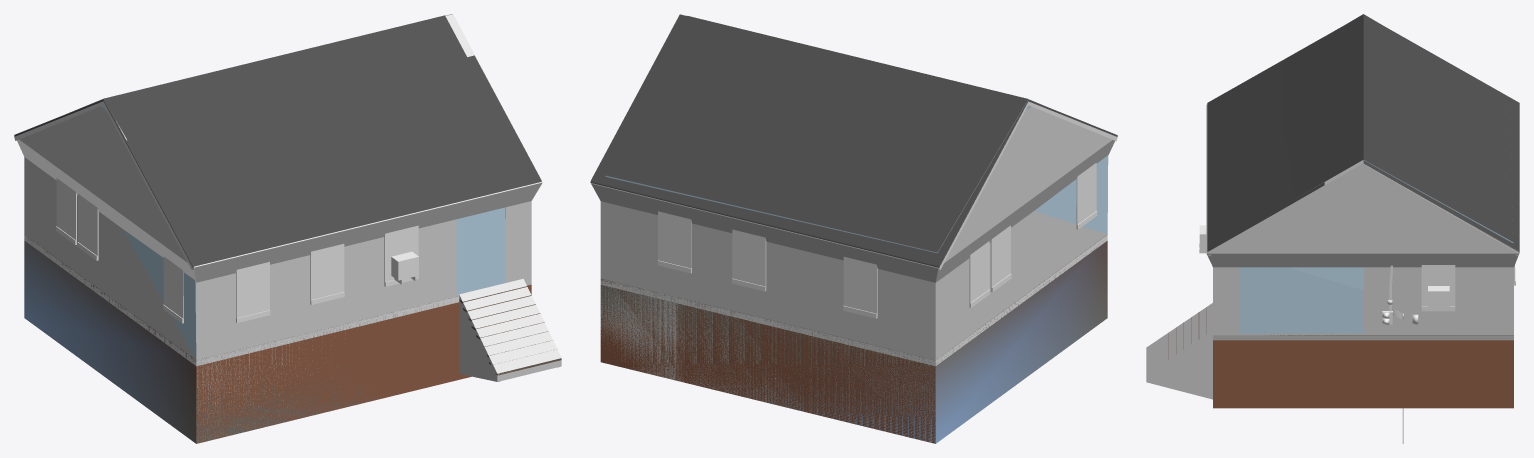
Rendered from eca_bld_house_sml_01.dae.
The picture shows the model from 3 angles, left to right: view 1: azimuth 30°, elevation 25°; view 2: azimuth 150°, elevation 25°; view 3: azimuth 270°, elevation 25°; orthographic projection. The views are drawn at different scales.
Visible parts, largest first — view 1: eca_bld_house_sml_01_a20, Colmesh-1, eca_bld_house_sml_01_a500, eca_bld_house_sml_01_a100; view 2: eca_bld_house_sml_01_a20, Colmesh-1, eca_bld_house_sml_01_a100, eca_bld_house_sml_01_a500; view 3: eca_bld_house_sml_01_a20, Colmesh-1, eca_bld_house_sml_01_a100, eca_bld_house_sml_01_a500.
Part boxes in pixels (x1,y1,x2,y2): eca_bld_house_sml_01_a20: (24, 15, 505, 443); Colmesh-1: (17, 14, 561, 440); eca_bld_house_sml_01_a500: (14, 14, 561, 381); eca_bld_house_sml_01_a100: (17, 140, 556, 443); eca_bld_house_sml_01_a20: (600, 16, 1108, 443); Colmesh-1: (590, 14, 1114, 443); eca_bld_house_sml_01_a100: (600, 140, 1115, 443); eca_bld_house_sml_01_a500: (590, 14, 1117, 366); eca_bld_house_sml_01_a20: (1239, 14, 1513, 335); Colmesh-1: (1146, 36, 1519, 399); eca_bld_house_sml_01_a100: (1168, 179, 1519, 408); eca_bld_house_sml_01_a500: (1199, 28, 1519, 443).
Bounding box in the file's own units: 9.6 × 9.97 × 8.37.
